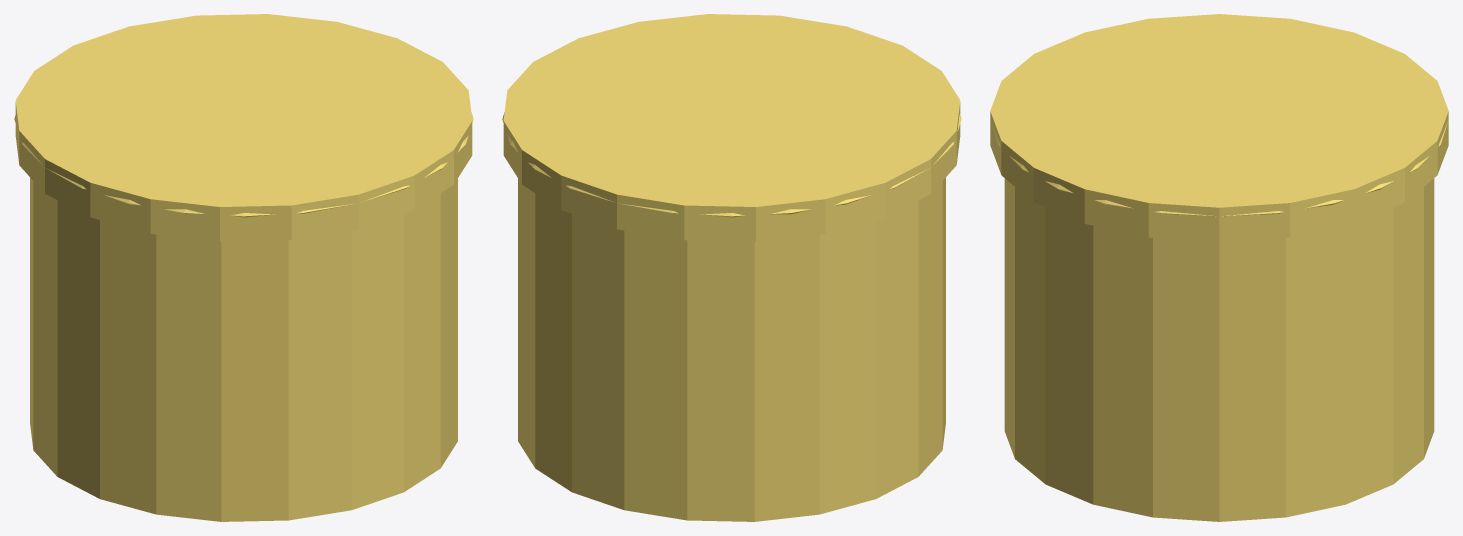
The model's file is bucket_gold.glb.
3 renders of one model, left to right at view 1: azimuth 30°, elevation 25°; view 2: azimuth 150°, elevation 25°; view 3: azimuth 270°, elevation 25°, orthographic.
Parts seen in each view (by area): view 1: BucketGold; view 2: BucketGold; view 3: BucketGold.
Boxes of the visible parts, bbox=[...] form: BucketGold: bbox=[14, 14, 473, 521]; BucketGold: bbox=[502, 14, 961, 521]; BucketGold: bbox=[990, 14, 1448, 521].
Bounding box in the file's own units: 0.96 × 0.74 × 0.96.
